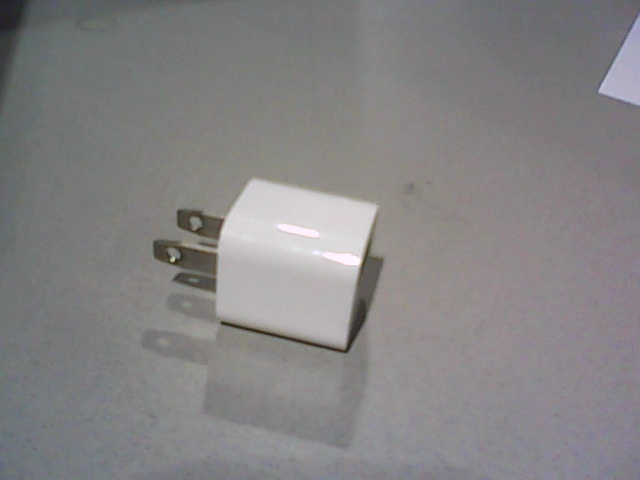charger: (152, 177, 381, 354)
